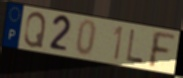0: (73, 19, 99, 59)
1: (113, 26, 125, 63)
2: (47, 14, 75, 55)
F: (148, 29, 177, 70)
L: (125, 28, 145, 65)
Q: (23, 11, 48, 50)
